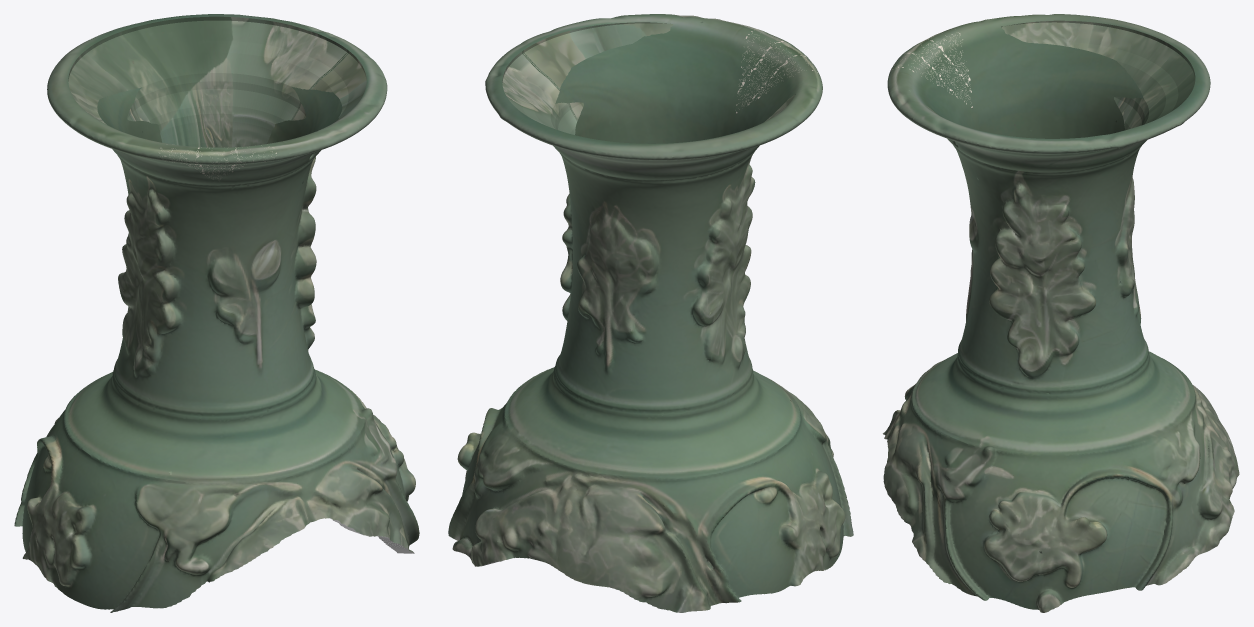
Rendered from broken-rim-repair-balanced.glb.
3 views of the same model, side by side, from view 1: azimuth 30°, elevation 25°; view 2: azimuth 150°, elevation 25°; view 3: azimuth 270°, elevation 25° (orthographic). The views are drawn at different scales.
Visible parts, largest first — view 1: Vase_Damaged, Rim_Patch_Textured; view 2: Vase_Damaged, Rim_Patch_Textured; view 3: Vase_Damaged, Rim_Patch_Textured.
Boxes of the visible parts, x1,y1,x2,y2 form: Vase_Damaged: (14,14,419,612); Rim_Patch_Textured: (158,143,276,182); Vase_Damaged: (448,14,853,612); Rim_Patch_Textured: (735,29,819,112); Vase_Damaged: (882,14,1239,612); Rim_Patch_Textured: (890,28,972,108).
Bounding box in the file's own units: 0.4526 × 0.5901 × 0.4199.
Materials: 4 (1 with a texture image).
